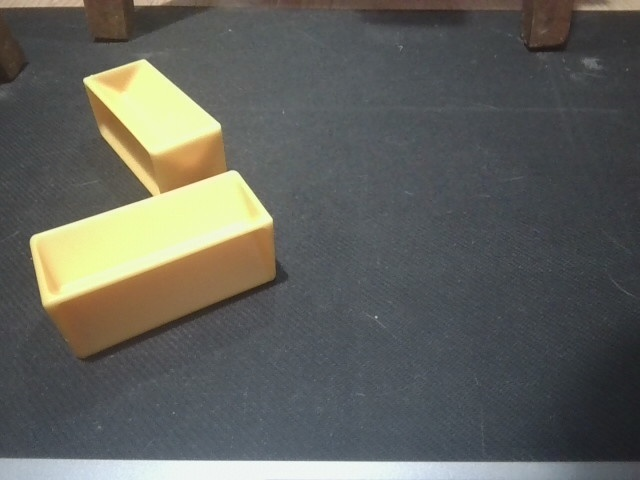YellowSample: (29, 168, 279, 358), (80, 55, 231, 206)
